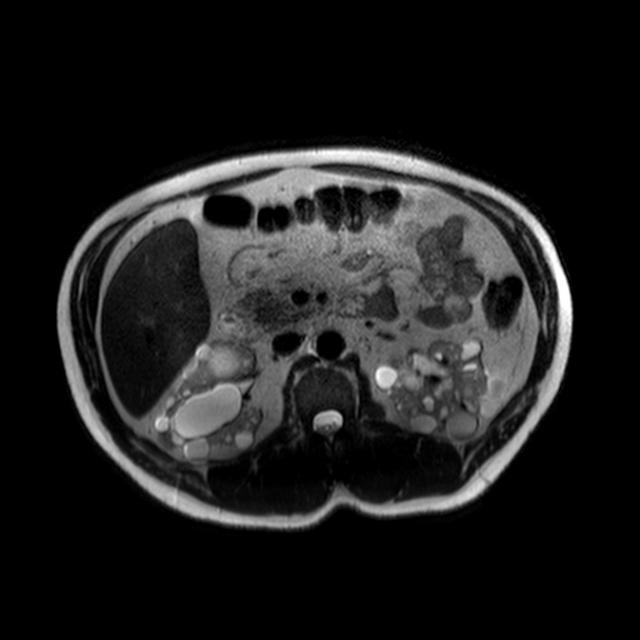sag: (154, 338, 264, 466)
sol: (374, 337, 508, 443)
